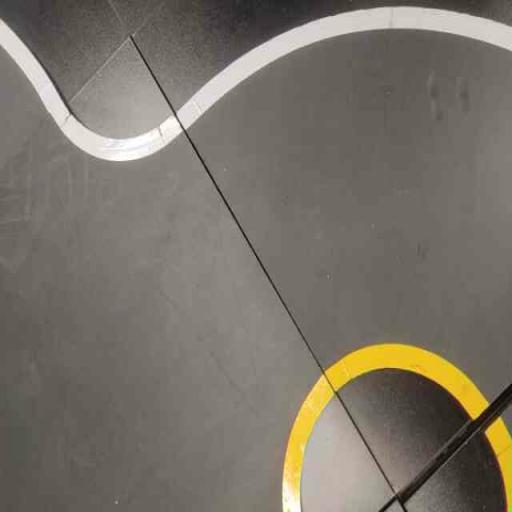left: (176, 2, 512, 421)
